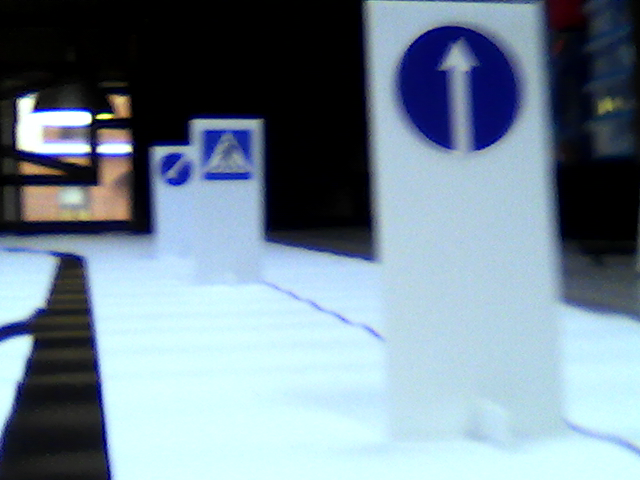forw: (393, 22, 522, 150)
pesh: (199, 126, 256, 183)
prep: (159, 151, 193, 186)
